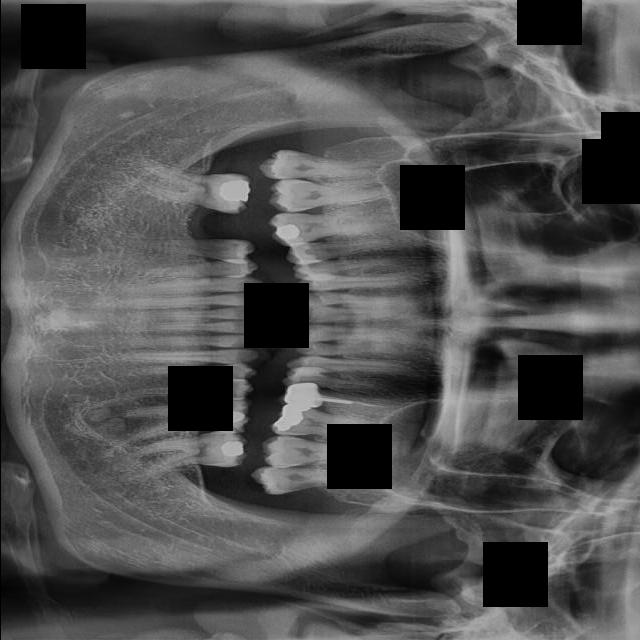71: (319, 398, 354, 404)
74: (352, 401, 389, 407)
NucleOSS Implant: (274, 397, 309, 440), (220, 180, 249, 201), (219, 439, 244, 459), (274, 223, 300, 240), (220, 409, 244, 426)
Sterngold Implant: (295, 373, 327, 387), (301, 261, 325, 269), (223, 393, 240, 399), (233, 243, 247, 250)
Straumann Implant: (288, 238, 319, 271), (285, 235, 305, 248)
Zimmer Implant: (283, 380, 323, 408)
